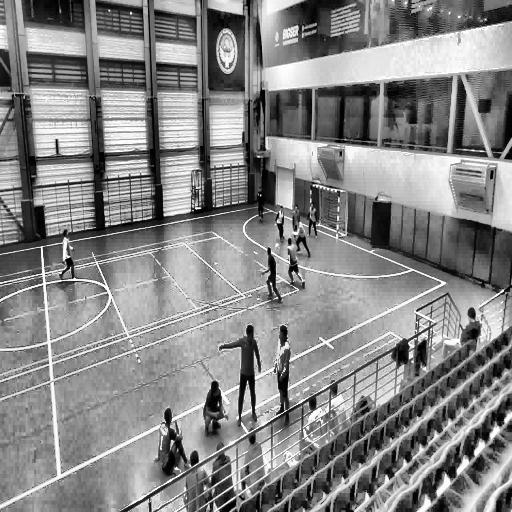player: (235, 322, 260, 426), (157, 406, 186, 480), (273, 323, 292, 425), (264, 246, 282, 301), (286, 237, 304, 289), (59, 228, 77, 280), (292, 218, 313, 260), (275, 206, 286, 243), (308, 202, 318, 237), (292, 203, 301, 240), (257, 189, 265, 222)
